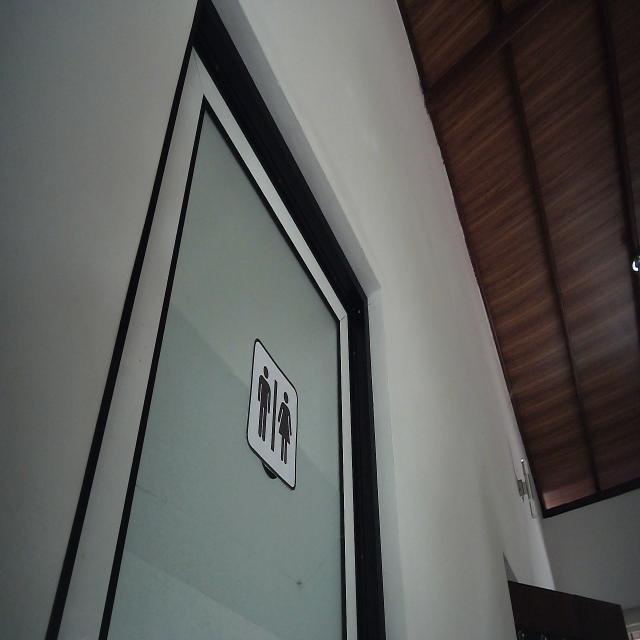restroom: (244, 336, 300, 494)
